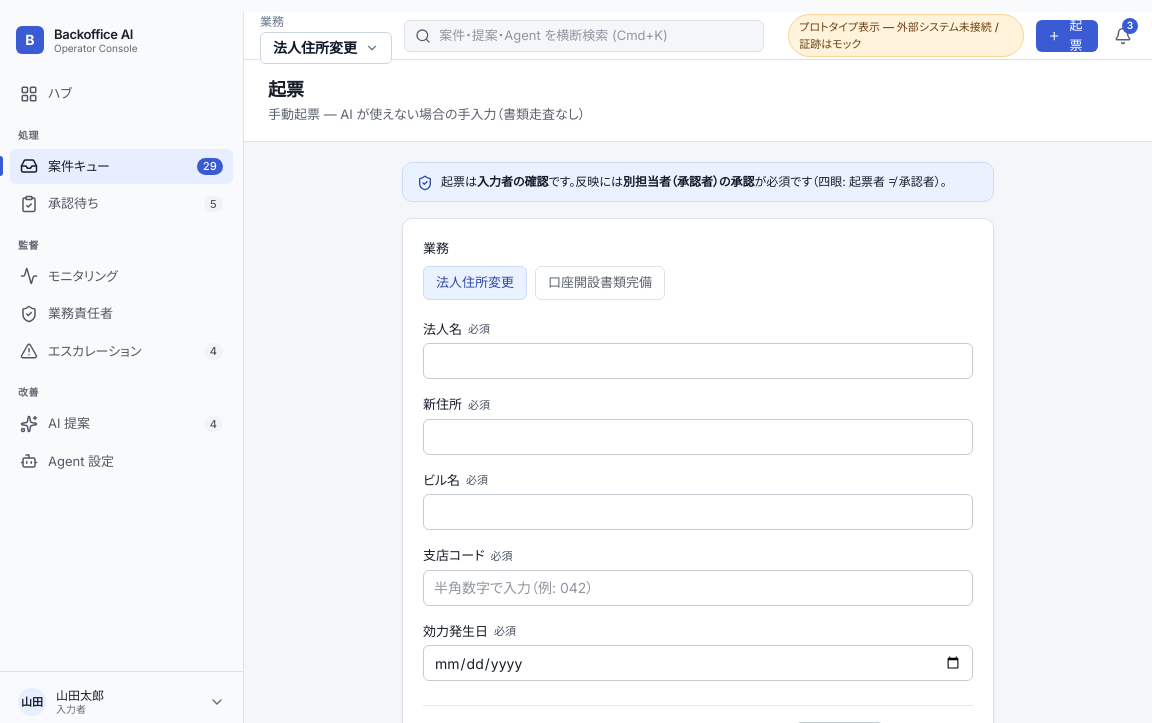
Test: W3 C4 manual entry (v2 form) › v2: 業務切替 (button group) で入力項目が口座開設の field 集合に変わる
Check: the field labelled "法人名 必須" is shown, box [423,343,973,379]
Click the button "口座開設書類完備".
click(600, 283)  # box [535,266,665,300]
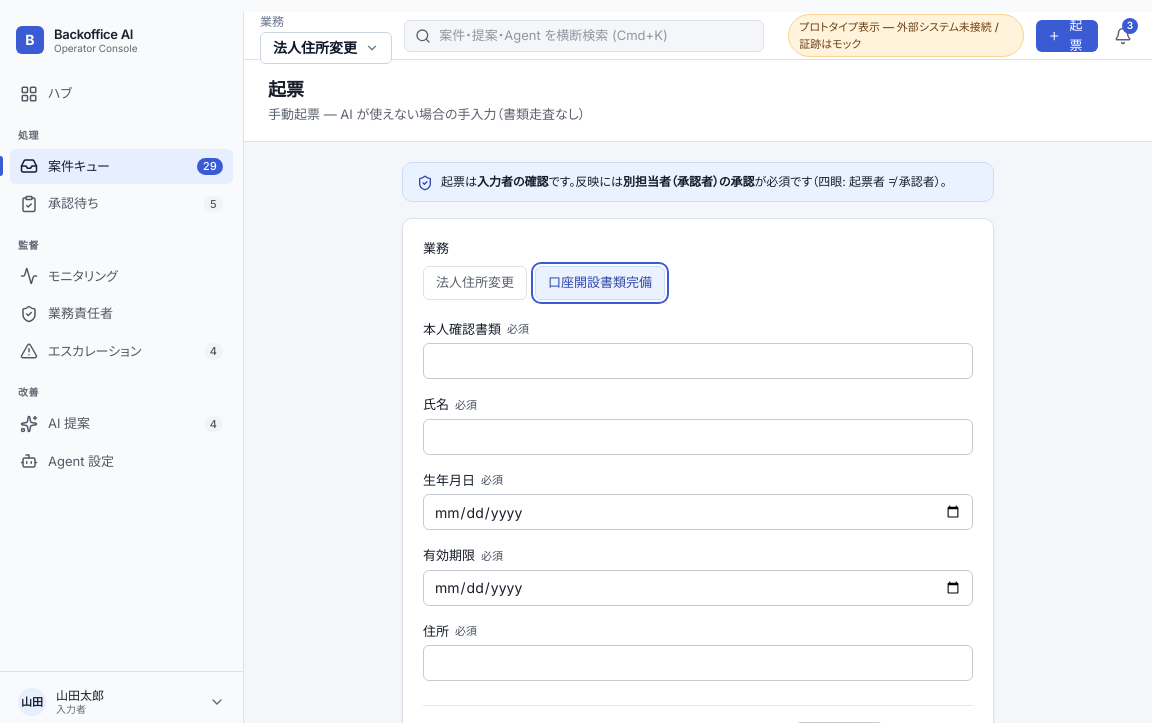
Check: the field labelled "本人確認書類 必須" is shown, box [423,343,973,379]
Check: the label labelled "法人名" is gone
